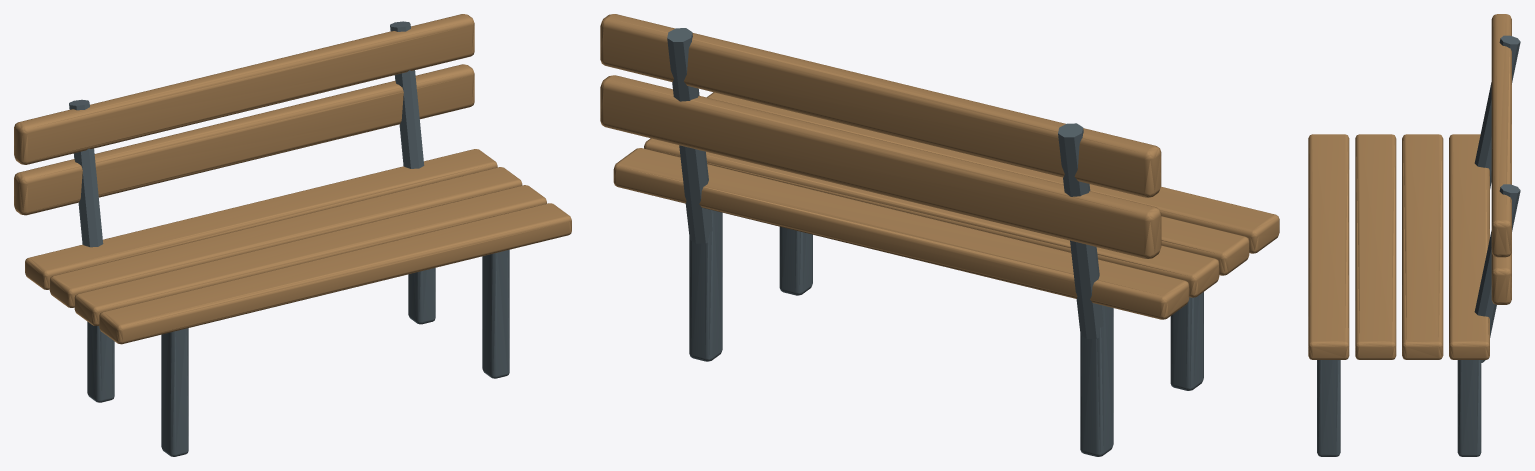
Rendered from bench.glb.
The picture shows the model from 3 angles, left to right: view 1: azimuth 30°, elevation 25°; view 2: azimuth 150°, elevation 25°; view 3: azimuth 270°, elevation 25°; orthographic projection. The views are drawn at different scales.
Visible parts, largest first — view 1: Keep_Mesh; view 2: Keep_Mesh; view 3: Keep_Mesh.
Boxes of the visible parts, x1=… form: Keep_Mesh: x1=14, y1=14, x2=571, y2=456; Keep_Mesh: x1=600, y1=14, x2=1279, y2=456; Keep_Mesh: x1=1308, y1=14, x2=1520, y2=456.
Bounding box in the file's own units: 1.7 × 1.01 × 0.7244.
